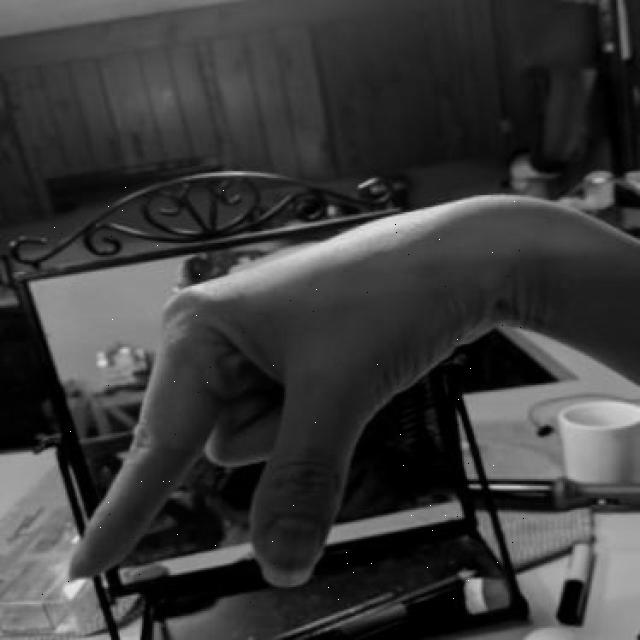Q: (36, 183, 534, 609)
